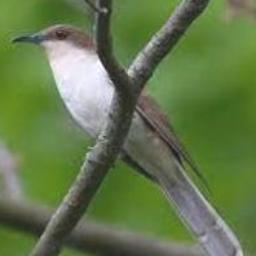Cuckoo: (10, 23, 256, 256)
